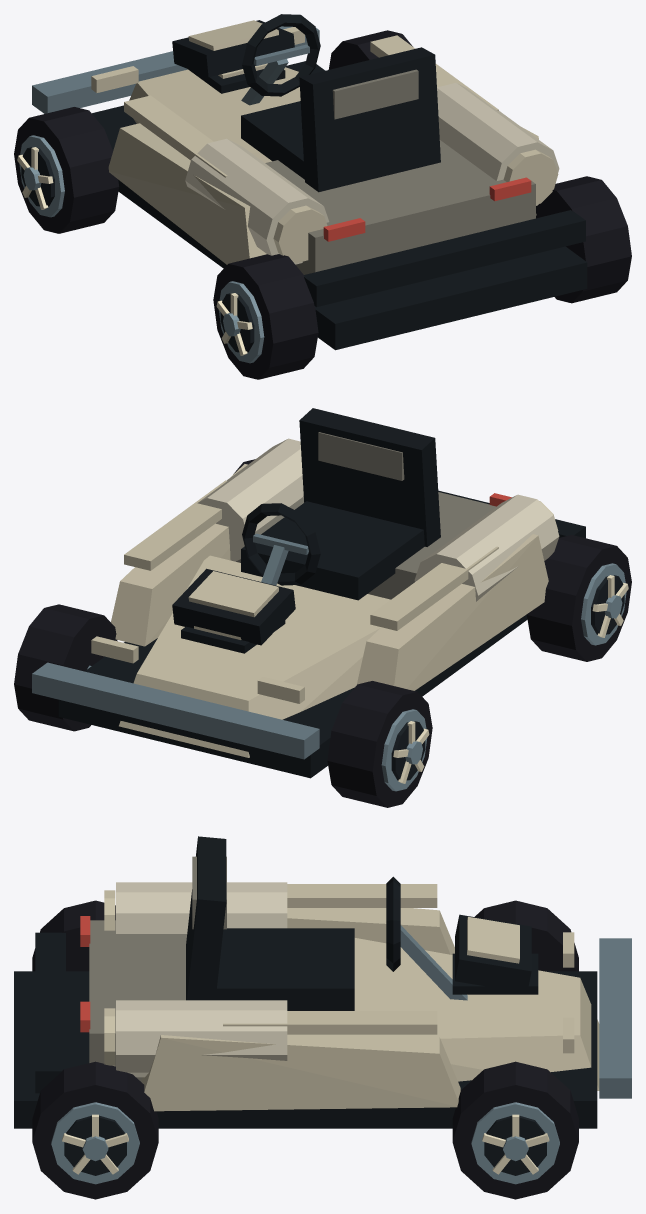
The model's file is kart.glb.
3 views of the same model, one above another, from view 1: azimuth 30°, elevation 25°; view 2: azimuth 150°, elevation 25°; view 3: azimuth 270°, elevation 25° (orthographic). The views are drawn at different scales.
Visible parts, largest first — view 1: chassis, wheel-rear-left, wheel-front-left, wheel-rear-right, wheel-front-right; view 2: chassis, wheel-front-left, wheel-rear-left, wheel-front-right; view 3: chassis, wheel-front-right, wheel-rear-right, wheel-front-left, wheel-rear-left.
Boxes of the visible parts, bbox=[...] form: chassis: bbox=[32, 14, 587, 350]; wheel-rear-left: bbox=[213, 254, 318, 379]; wheel-front-left: bbox=[14, 107, 119, 233]; wheel-rear-right: bbox=[536, 176, 631, 303]; wheel-front-right: bbox=[328, 30, 412, 69]; chassis: bbox=[32, 408, 585, 778]; wheel-front-left: bbox=[327, 681, 432, 807]; wheel-rear-left: bbox=[526, 535, 631, 661]; wheel-front-right: bbox=[14, 604, 117, 731]; chassis: bbox=[14, 836, 631, 1128]; wheel-front-right: bbox=[452, 1061, 578, 1199]; wheel-rear-right: bbox=[32, 1061, 158, 1199]; wheel-front-left: bbox=[475, 900, 578, 971]; wheel-rear-left: bbox=[32, 900, 115, 971].
Bounding box in the file's own units: 2.31 × 1.3 × 3.03.
